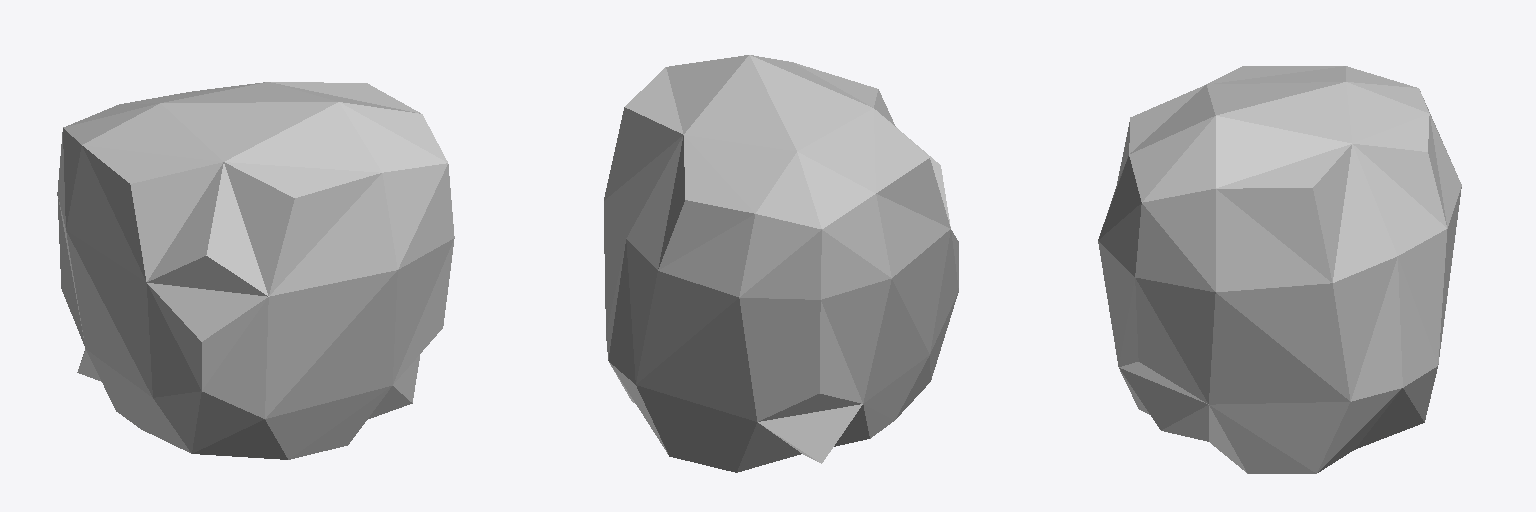
The picture shows the model from 3 angles: view 1: azimuth 30°, elevation 25°; view 2: azimuth 150°, elevation 25°; view 3: azimuth 270°, elevation 25°; orthographic projection.
Visible parts, largest first — view 1: Esfera_Esfera.001; view 2: Esfera_Esfera.001; view 3: Esfera_Esfera.001.
Boxes of the visible parts, x1=… form: Esfera_Esfera.001: x1=57, y1=82, x2=454, y2=459; Esfera_Esfera.001: x1=604, y1=55, x2=958, y2=472; Esfera_Esfera.001: x1=1098, y1=66, x2=1461, y2=473.
Bounding box in the file's own units: 2.52 × 2.53 × 2.52.